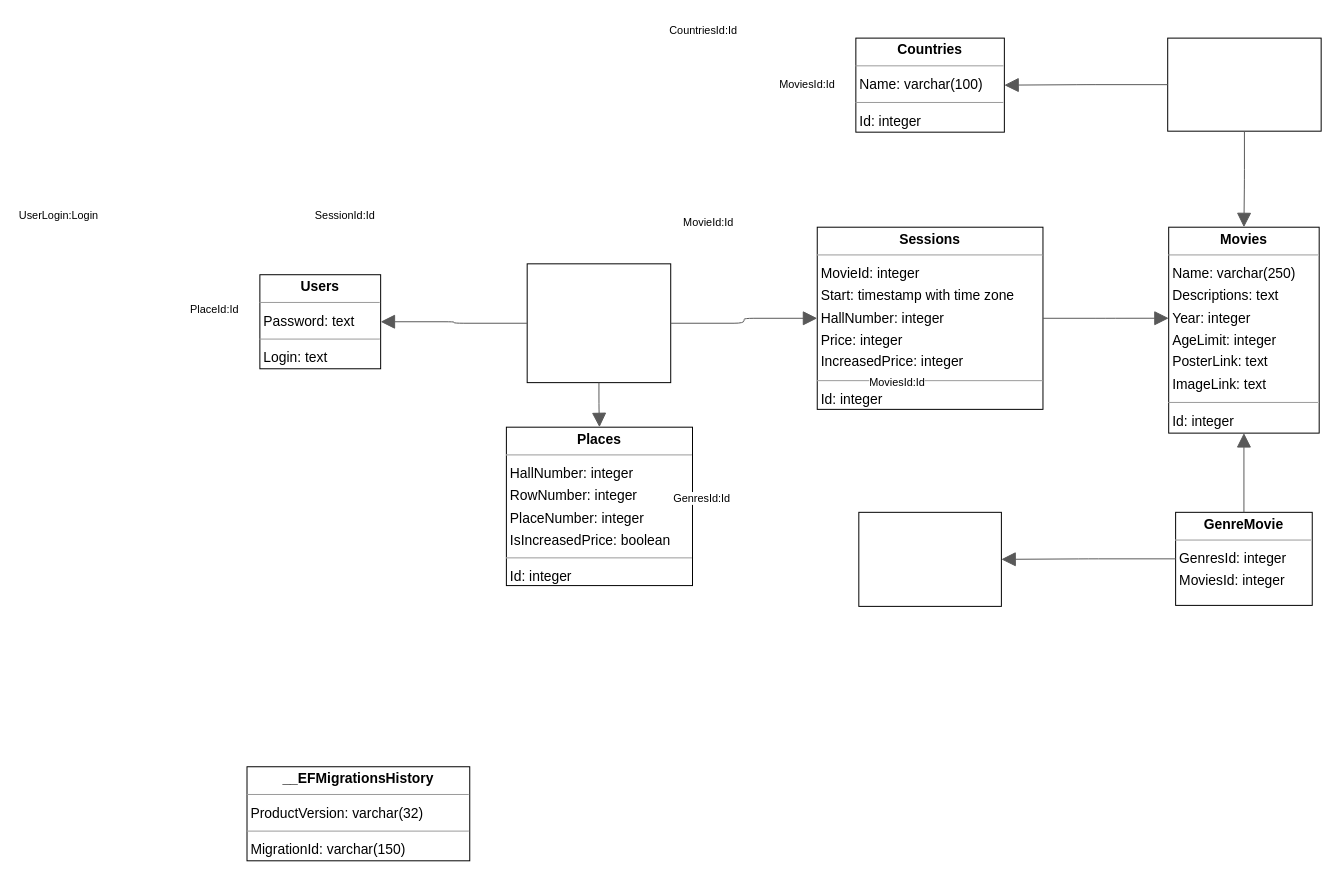
The diagram is 1338 pixels wide and 878 high, and some of its shapes have lost their labels. The shapes that lost their labels are listed below. From the top down, each one's centre as x and y in pixels, then its label:
At point 1244,84: "CountryMovie CountriesId: integer MoviesId: integer".
At point 598,323: "Reservations UserLogin: text SessionId: integer PlaceId: integer".
At point 929,558: "Genres Name: varchar(45) Id: integer".
